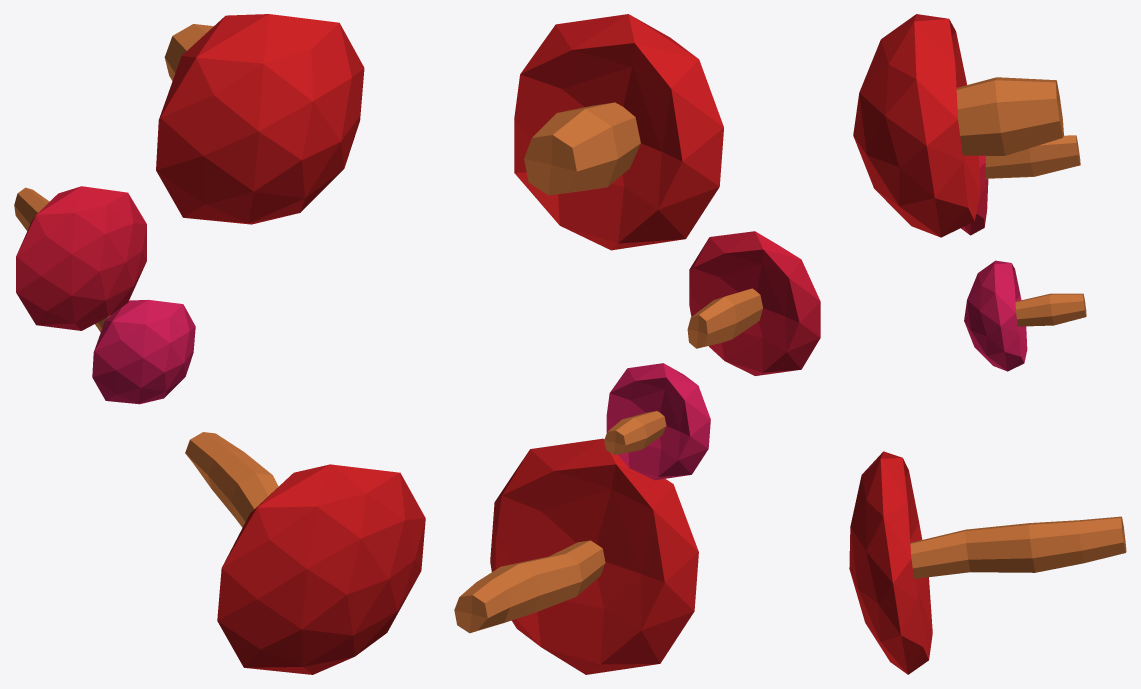
The model's file is mushroom.obj.
3 views of the same model, side by side, from view 1: azimuth 30°, elevation 25°; view 2: azimuth 150°, elevation 25°; view 3: azimuth 270°, elevation 25° (orthographic). The views are drawn at different scales.
Parts seen in each view (by area): view 1: Icosphere, Icosphere.002_Icosphere.004, Icosphere.001_Icosphere.003, Icosphere.003_Icosphere.005, Cube.002_Cube.005, Cube_Cube.001, Cube.001_Cube.004; view 2: Icosphere.002_Icosphere.004, Icosphere, Icosphere.001_Icosphere.003, Cube_Cube.001, Icosphere.003_Icosphere.005, Cube.002_Cube.005, Cube.001_Cube.004, Cube.003_Cube.006; view 3: Icosphere, Icosphere.002_Icosphere.004, Cube.002_Cube.005, Cube_Cube.001, Icosphere.003_Icosphere.005, Cube.001_Cube.004, Cube.003_Cube.006, Icosphere.001_Icosphere.003.
Part boxes in pixels (box(x1,y1,x2,y2)): Icosphere: box(156, 14, 364, 224); Icosphere.002_Icosphere.004: box(217, 464, 425, 674); Icosphere.001_Icosphere.003: box(16, 186, 146, 330); Icosphere.003_Icosphere.005: box(92, 299, 195, 404); Cube.002_Cube.005: box(185, 432, 278, 527); Cube_Cube.001: box(164, 24, 213, 80); Cube.001_Cube.004: box(14, 187, 49, 230); Icosphere.002_Icosphere.004: box(490, 438, 698, 674); Icosphere: box(514, 14, 723, 250); Icosphere.001_Icosphere.003: box(689, 231, 820, 375); Cube_Cube.001: box(524, 102, 640, 195); Icosphere.003_Icosphere.005: box(606, 363, 710, 480); Cube.002_Cube.005: box(454, 540, 605, 633); Cube.001_Cube.004: box(687, 288, 762, 348); Cube.003_Cube.006: box(604, 411, 666, 454); Icosphere: box(853, 14, 980, 237); Icosphere.002_Icosphere.004: box(849, 451, 932, 674); Cube.002_Cube.005: box(910, 516, 1126, 578); Cube_Cube.001: box(956, 77, 1063, 155); Icosphere.003_Icosphere.005: box(964, 260, 1027, 371); Cube.001_Cube.004: box(985, 135, 1080, 178); Cube.003_Cube.006: box(1015, 293, 1086, 326); Icosphere.001_Icosphere.003: box(961, 155, 988, 235).
Size of the model in its own units: 1.71 by 2.99 by 1.2.
